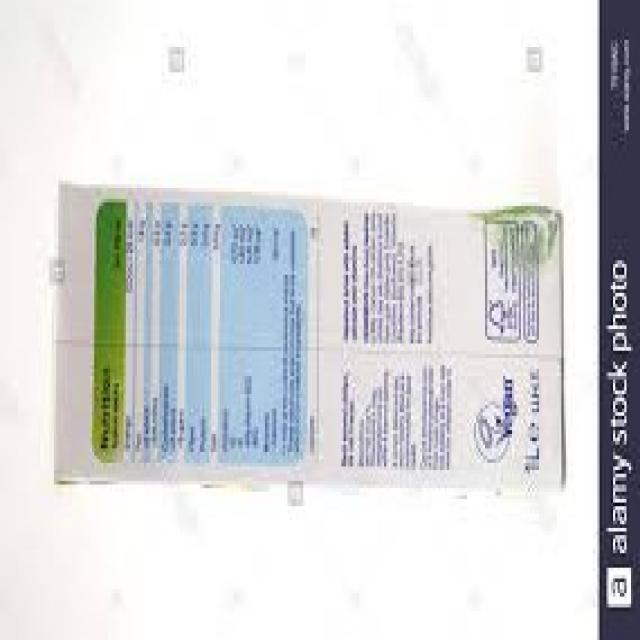non_white_jug: (46, 175, 567, 498)
